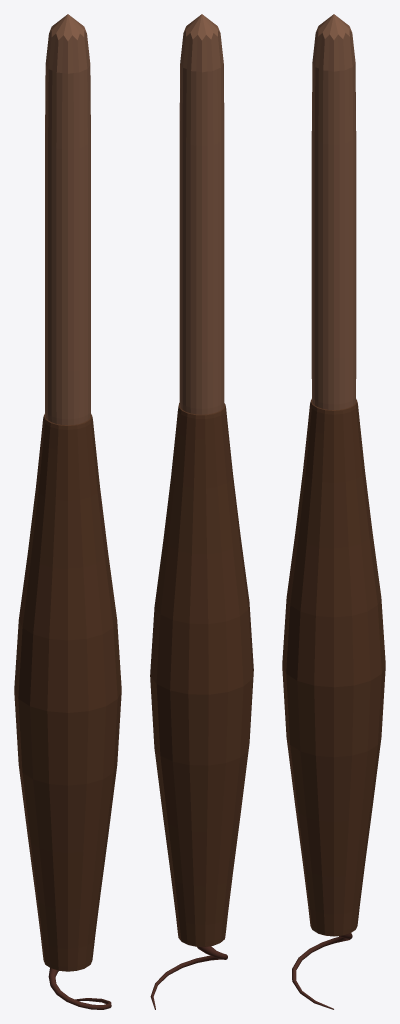
File: Wand 119.glb
The picture shows the model from 3 angles, left to right: view 1: azimuth 90°, elevation 25°; view 2: azimuth 210°, elevation 25°; view 3: azimuth 270°, elevation 25°; orthographic projection. The views are drawn at different scales.
Parts seen in each view (by area): view 1: GeneratedWand; view 2: GeneratedWand; view 3: GeneratedWand.
Part boxes in pixels (x1=…): GeneratedWand: x1=14, y1=14, x2=121, y2=1009; GeneratedWand: x1=150, y1=14, x2=253, y2=1009; GeneratedWand: x1=282, y1=14, x2=385, y2=1009.
Size of the model in its own units: 0.0507 by 0.5166 by 0.0499.
